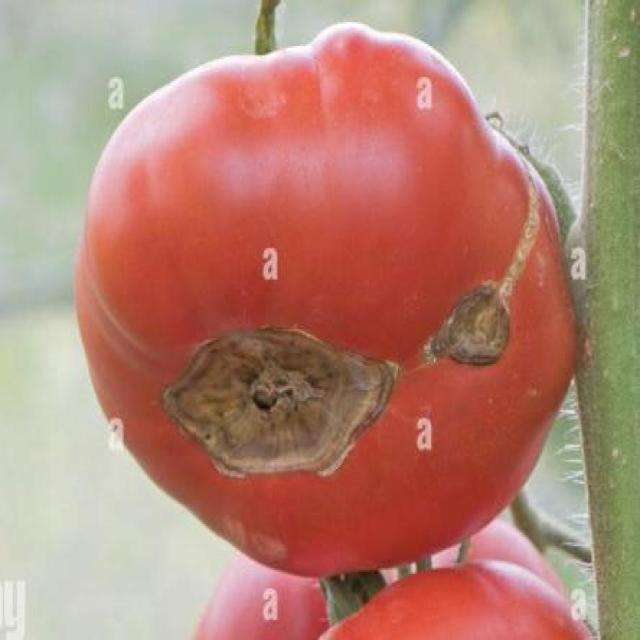Blossom End Rot Fruit: (63, 89, 313, 272)
